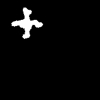single_crochet: (12, 8, 42, 38)
